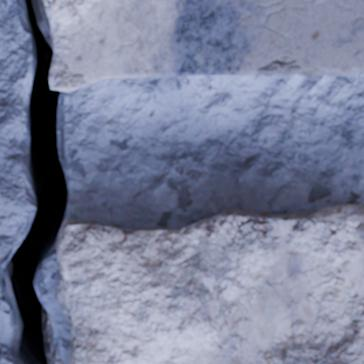brick: (55, 203, 363, 363), (45, 0, 363, 90)
crack: (0, 0, 69, 363)
